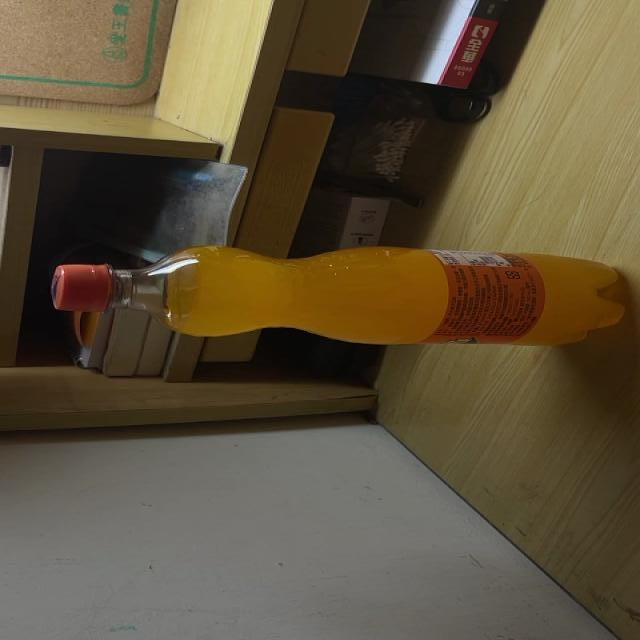Fanta: (48, 247, 628, 346)
